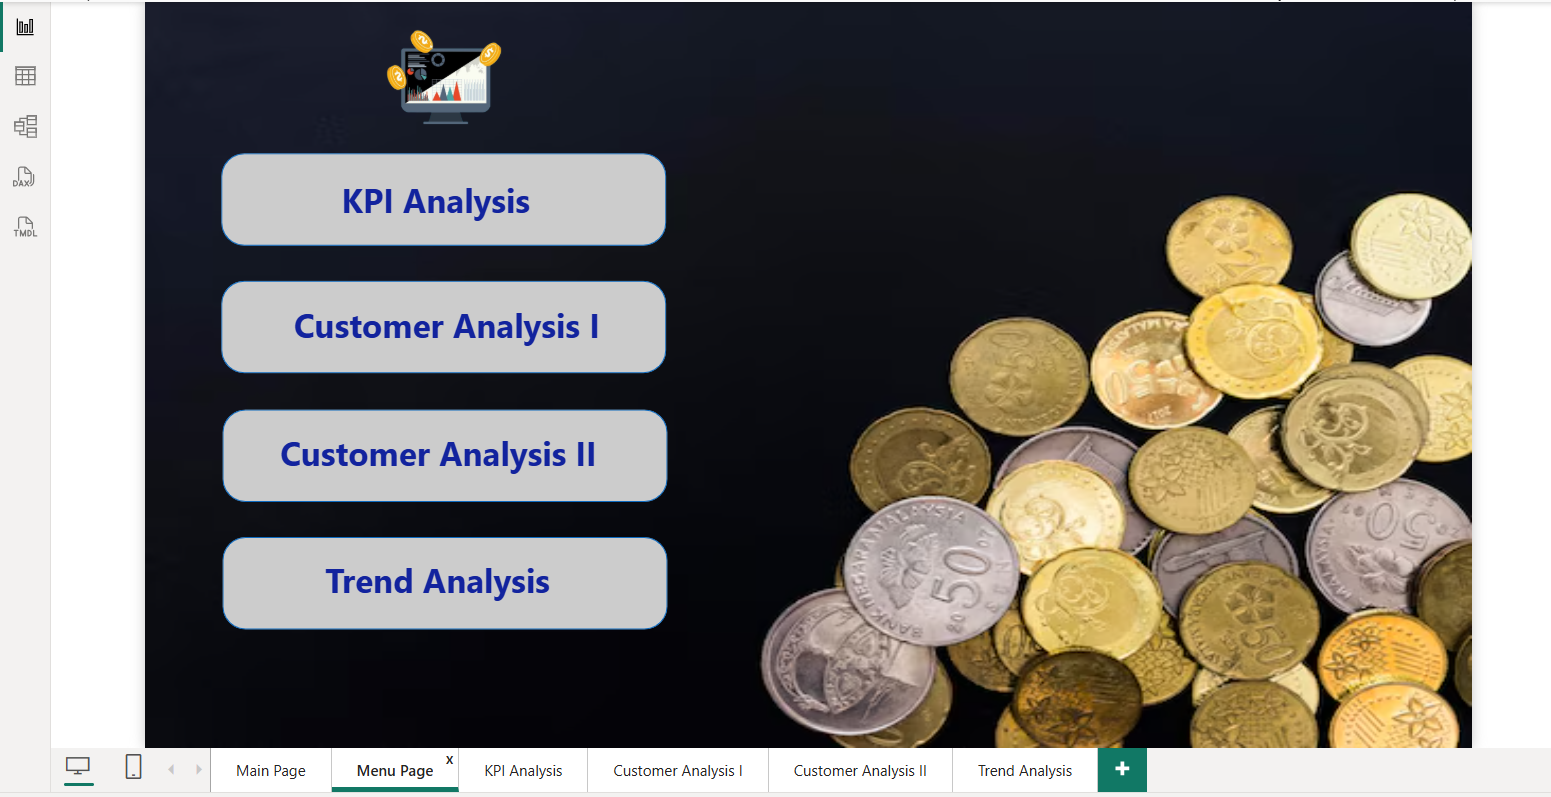

The dashboard page shown, as its layout file describes it:
{"tool":"powerbi","page":{"name":"Menu Page","canvas":[1280,720],"ordinal":1},"visuals":[{"type":"shape","box":[73.6,146,429.5,89.3],"z":0},{"type":"shape","box":[73.6,269.4,429.5,89.3],"z":1000},{"type":"shape","box":[74.8,392.9,429.5,89.3],"z":2000},{"type":"shape","box":[74.8,516.4,429.5,89.3],"z":3000},{"type":"image","box":[95.3,0,387.3,146],"z":4000},{"type":"textbox","box":[184.6,164.1,209.9,54.3],"z":5000},{"type":"textbox","box":[138.7,284.7,326.9,61.5],"z":6000},{"type":"textbox","box":[125.5,409,328.2,61.5],"z":7000},{"type":"textbox","box":[168.9,530.8,237.7,61.5],"z":8000}]}

Visuals, with their boxes on the page's 1280x720 design canvas (x1, y1, x2, y2). These are canvas units, not pixel positions in the 1551x797 screenshot, which may show the page scaled, cropped or inside an application window:
shape: (74, 146, 503, 235)
shape: (74, 269, 503, 359)
shape: (75, 393, 504, 482)
shape: (75, 516, 504, 606)
image: (95, 0, 483, 146)
textbox: (185, 164, 394, 218)
textbox: (139, 285, 466, 346)
textbox: (126, 409, 454, 470)
textbox: (169, 531, 407, 592)
